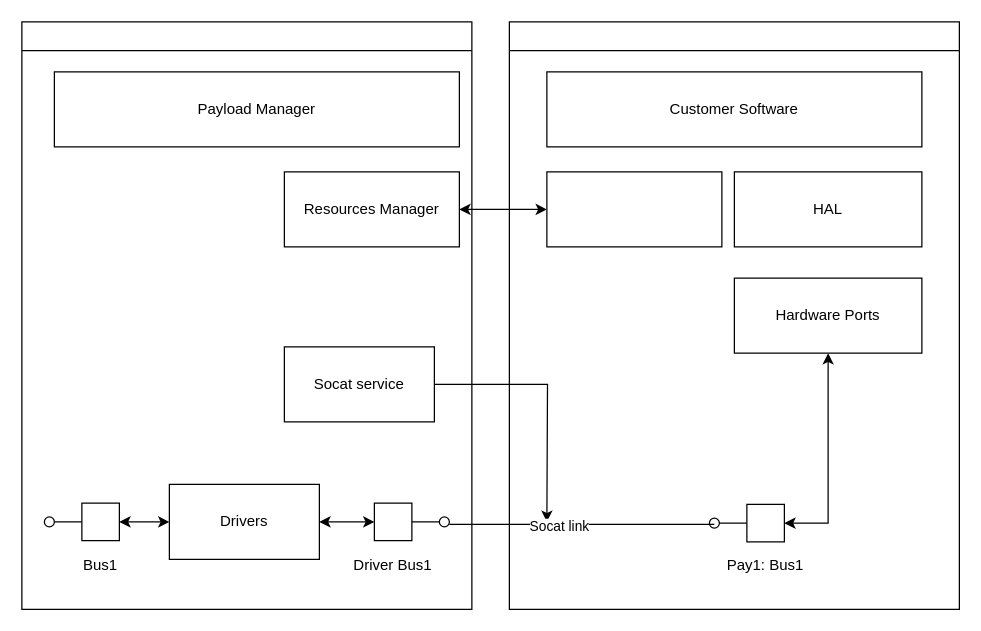
Image size: 981x631. Some labels were removed from this diagram. The shapes that lost their labels are listed below. From the top down, each one's box as (x1, y1, x2, y2) in pixels, then its label:
(546, 171, 722, 247): Resource Request
(21, 21, 472, 609): User: sys
(508, 21, 959, 609): User: pay1
